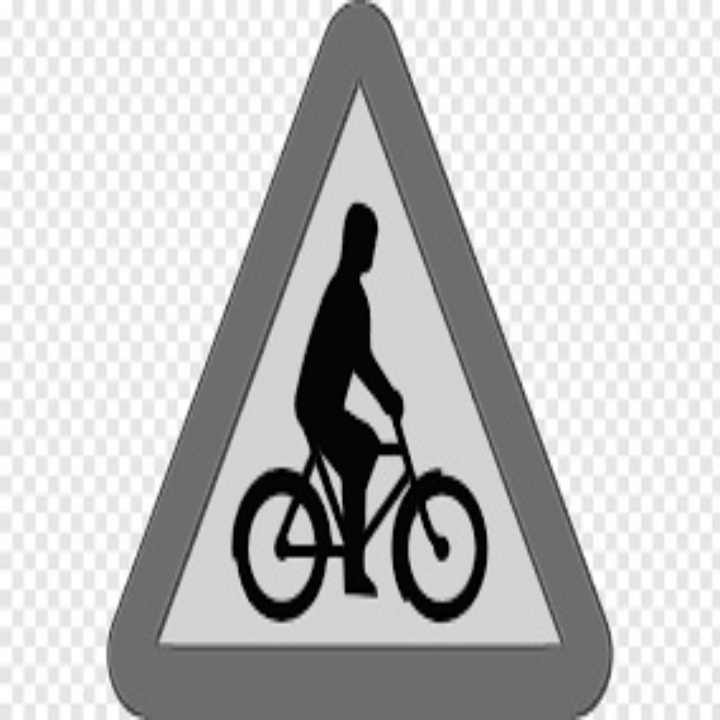bicycle: (183, 365, 543, 643)
